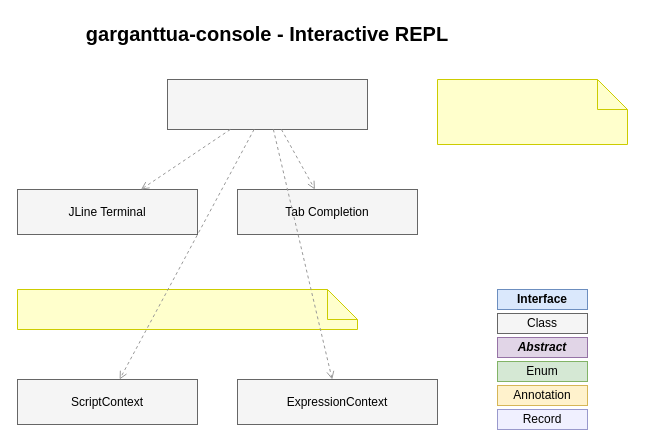
This 645x447 diagram has some shape labels left out. The centre of each missing label's shape, as x and y in pixels:
"Built-in: help(), vars(), clear(), load(), man(), syntax(), exit(), quit()" goes at (532,111).
"ConsoleMain" goes at (267,104).
"History (~/.garganttua_script_history)" goes at (187,309).
